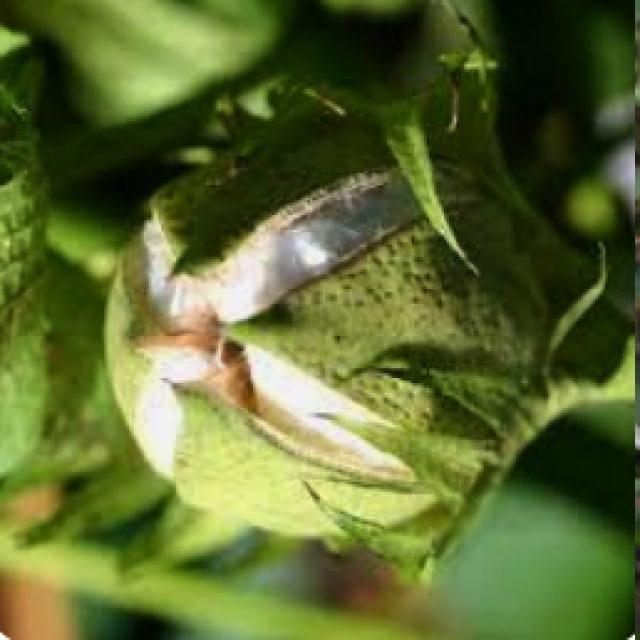Split Cotton Boll: (93, 123, 555, 562)
